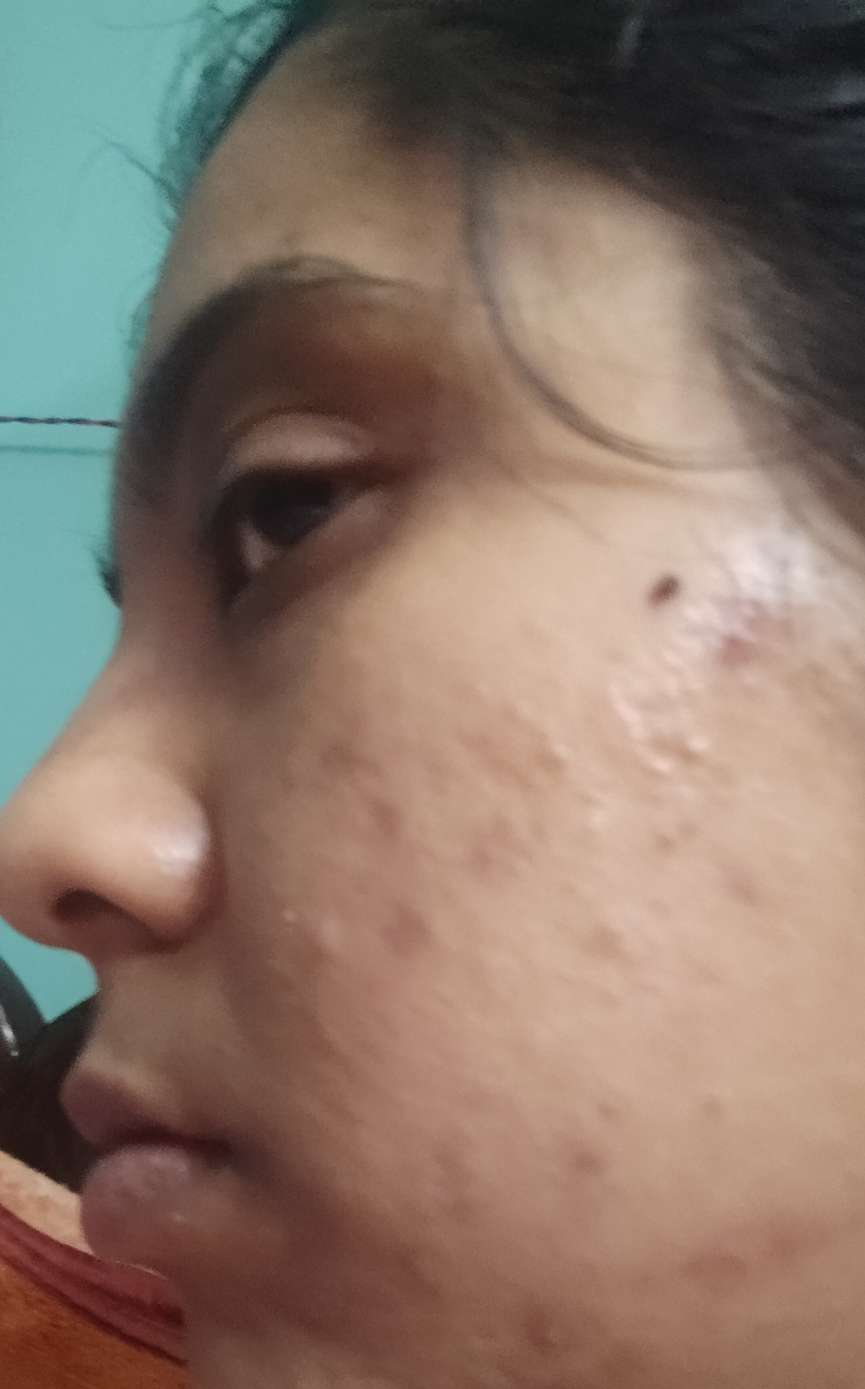papule: (617, 729, 752, 818), (271, 903, 372, 969), (521, 727, 587, 786)
